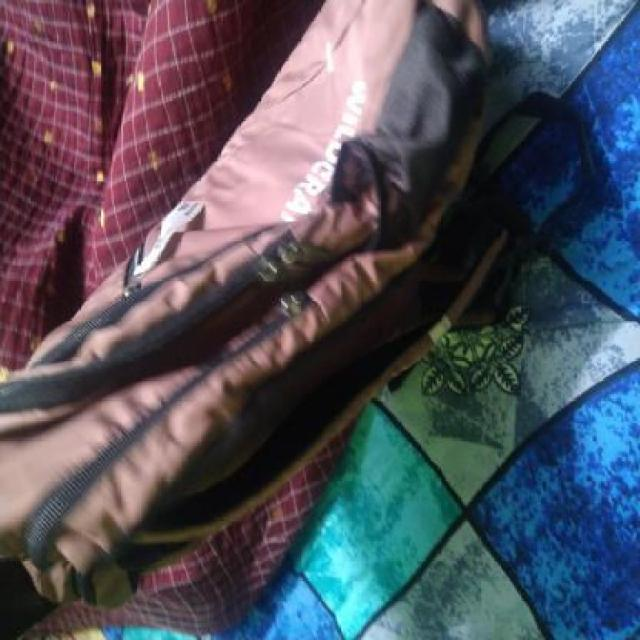backpack: (0, 0, 538, 615)
